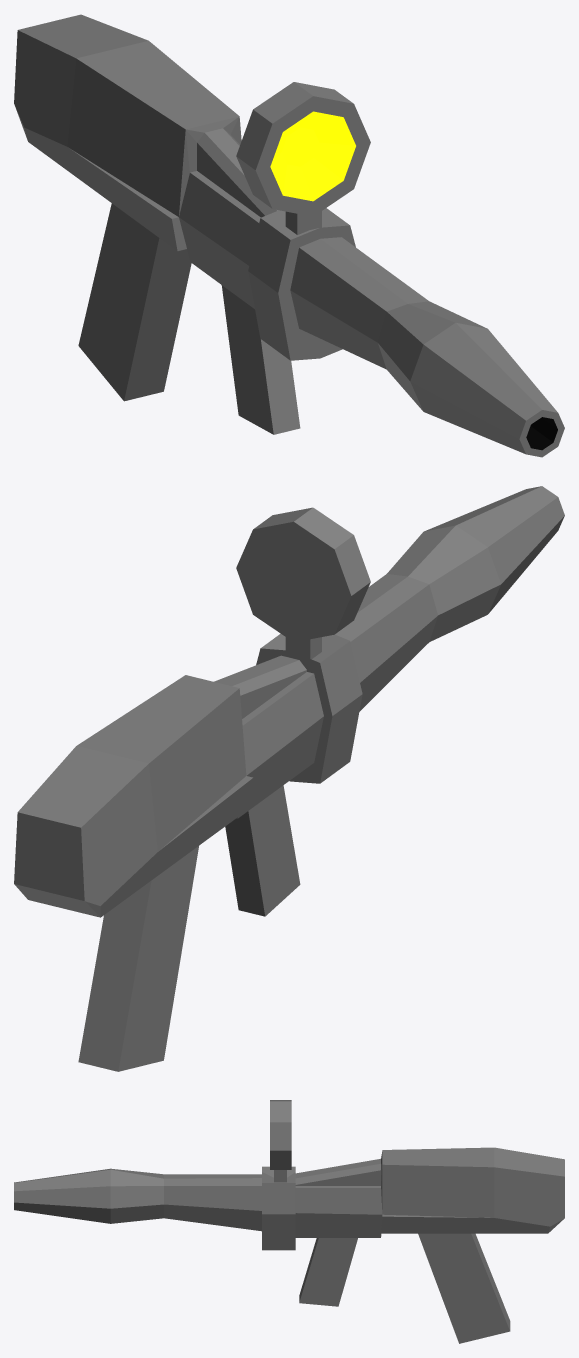
Rendered from BeamRifle.fbx.
The picture shows the model from 3 angles, top to bottom: view 1: azimuth 30°, elevation 25°; view 2: azimuth 150°, elevation 25°; view 3: azimuth 270°, elevation 25°; orthographic projection. The views are drawn at different scales.
Parts seen in each view (by area): view 1: BeamRifle; view 2: BeamRifle; view 3: BeamRifle.
Boxes of the visible parts, bbox=[...] form: BeamRifle: bbox=[14, 14, 564, 457]; BeamRifle: bbox=[14, 486, 564, 1071]; BeamRifle: bbox=[14, 1100, 564, 1343].
Bounding box in the file's own units: 56.36 × 417 × 198.
